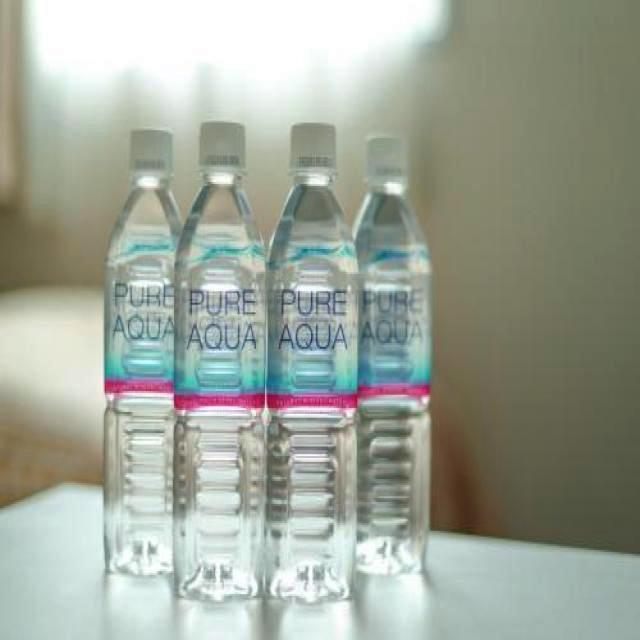bottle: (264, 121, 359, 604), (173, 121, 266, 603), (352, 135, 434, 575), (104, 129, 184, 578)
